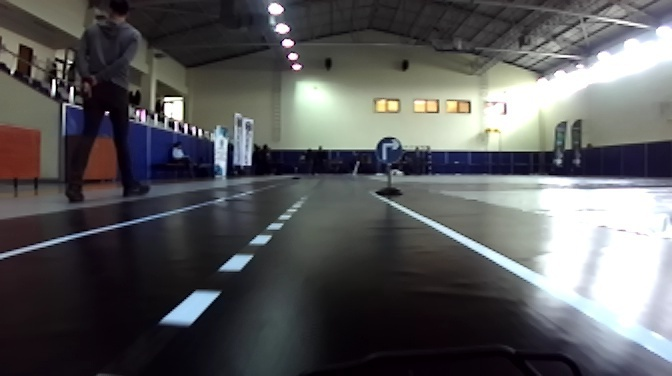saga_donus: (371, 135, 403, 167)
